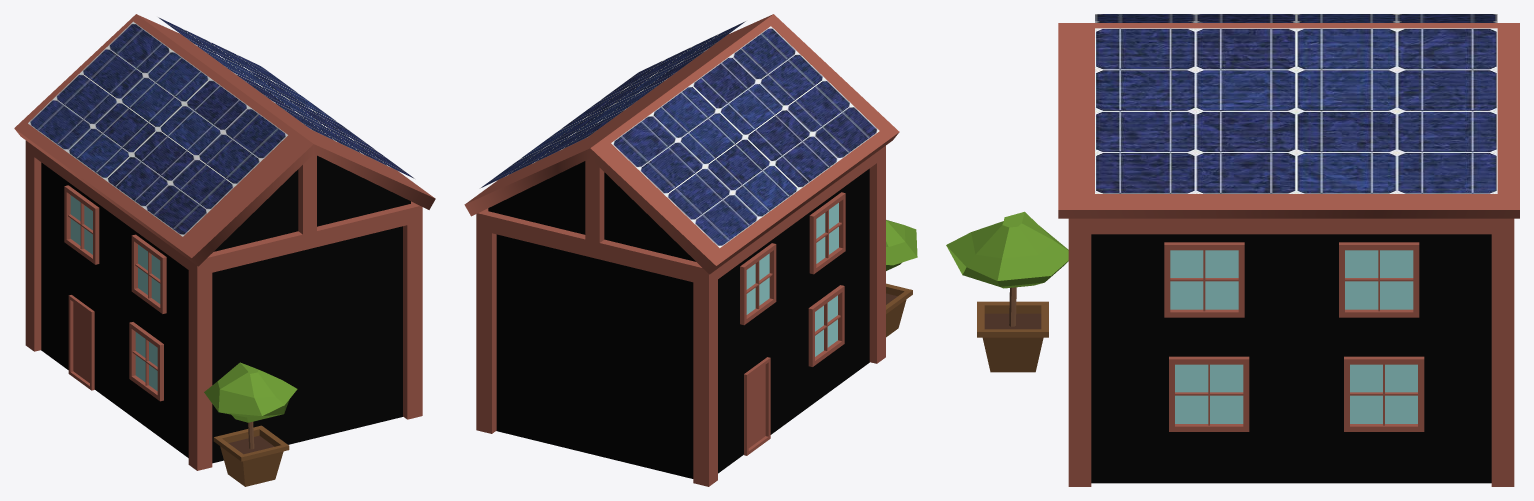
File: newHouse3 1.fbx
The picture shows the model from 3 angles, left to right: view 1: azimuth 30°, elevation 25°; view 2: azimuth 150°, elevation 25°; view 3: azimuth 270°, elevation 25°; orthographic projection. The views are drawn at different scales.
Parts seen in each view (by area): view 1: Wohnhaus3.001, Plane.026, Cube.013, Wohnhaus5.009, Cube.029, Plane.042, Plane.052, Plane.051; view 2: Wohnhaus3.001, Plane.026, Cube.013, Wohnhaus5.009, Plane.042, Plane.051, Plane.052, Cube.029; view 3: Wohnhaus3.001, Plane.026, Wohnhaus5.009, Cube.013, Plane.042, Plane.051, Cube.029.
Boxes of the visible parts, <box> form: Wohnhaus3.001: <box>41,155,410,463</box>; Plane.026: <box>28,16,415,236</box>; Cube.013: <box>25,140,422,470</box>; Wohnhaus5.009: <box>14,14,435,266</box>; Cube.029: <box>204,362,297,486</box>; Plane.042: <box>64,185,166,313</box>; Plane.052: <box>68,295,94,390</box>; Plane.051: <box>129,322,163,401</box>; Wohnhaus3.001: <box>488,161,869,478</box>; Plane.026: <box>479,21,879,247</box>; Cube.013: <box>476,146,885,486</box>; Wohnhaus5.009: <box>464,14,899,274</box>; Plane.042: <box>740,192,845,325</box>; Plane.051: <box>808,285,844,366</box>; Plane.052: <box>744,357,770,455</box>; Cube.029: <box>886,220,917,337</box>; Wohnhaus3.001: <box>1091,234,1491,483</box>; Plane.026: <box>1095,14,1497,193</box>; Wohnhaus5.009: <box>1058,23,1519,218</box>; Cube.013: <box>1068,218,1514,486</box>; Plane.042: <box>1164,242,1419,317</box>; Plane.051: <box>1169,356,1424,431</box>; Cube.029: <box>946,211,1068,372</box>.
Bounding box in the file's own units: 6.94 × 8.26 × 10.88.
